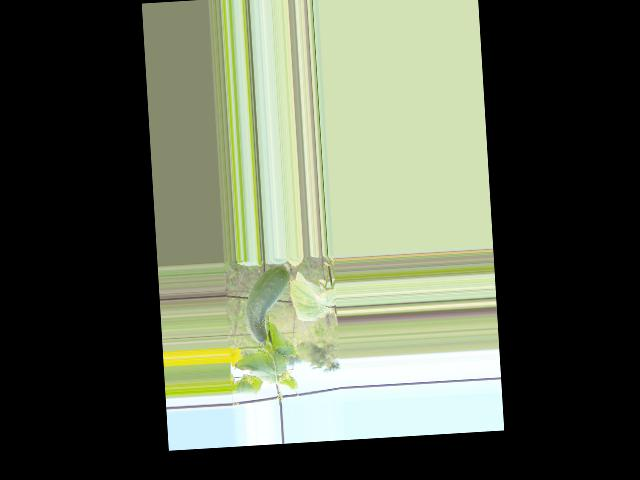cucumber: (243, 265, 294, 344)
